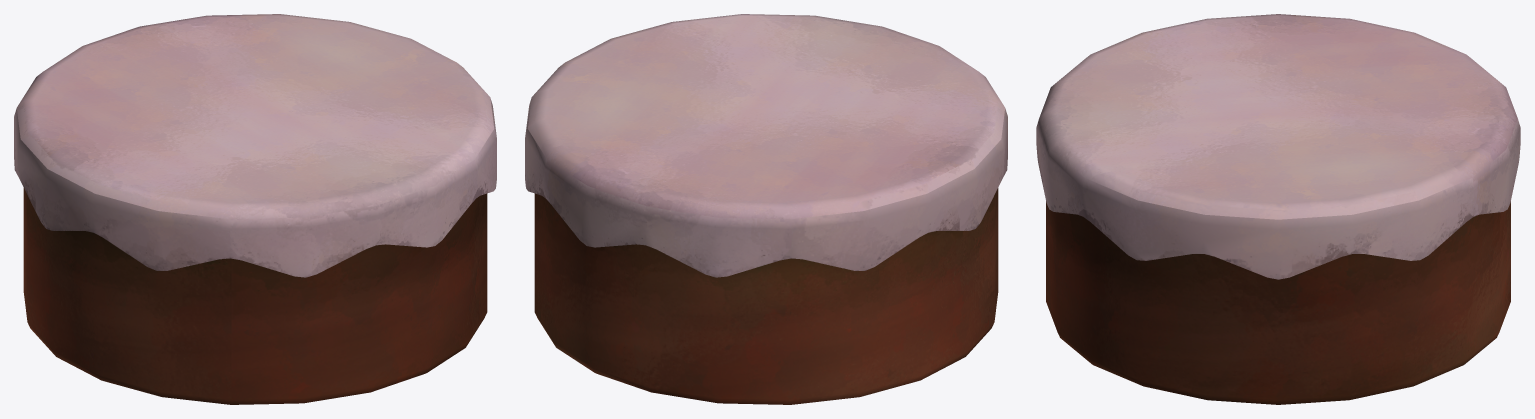
File: 10_Lv1 Cake.fbx
3 renders of one model, left to right at view 1: azimuth 30°, elevation 25°; view 2: azimuth 150°, elevation 25°; view 3: azimuth 270°, elevation 25°, orthographic.
Parts seen in each view (by area): view 1: Cake; view 2: Cake; view 3: Cake.
Boxes of the visible parts, x1=… form: Cake: x1=14, y1=14, x2=496, y2=404; Cake: x1=525, y1=14, x2=1007, y2=404; Cake: x1=1036, y1=14, x2=1520, y2=404.
Bounding box in the file's own units: 712 × 326 × 712.
